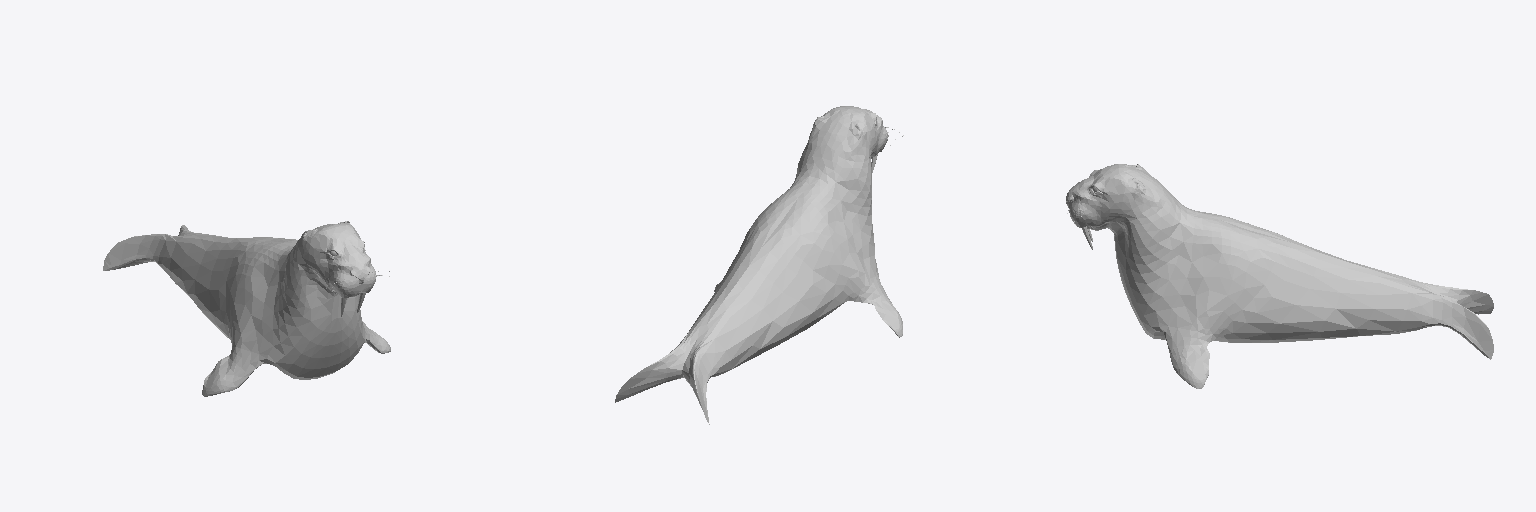
The model's file is WALRUS.OBJ.
The picture shows the model from 3 angles: view 1: azimuth 30°, elevation 25°; view 2: azimuth 150°, elevation 25°; view 3: azimuth 270°, elevation 25°; orthographic projection.
Parts seen in each view (by area): view 1: wal_body; view 2: wal_body; view 3: wal_body.
Part boxes in pixels (bbox=[...]): wal_body: bbox=[103, 221, 390, 396]; wal_body: bbox=[615, 106, 902, 424]; wal_body: bbox=[1066, 164, 1493, 388].
Size of the model in its own units: 1.06 by 0.9582 by 2.11.